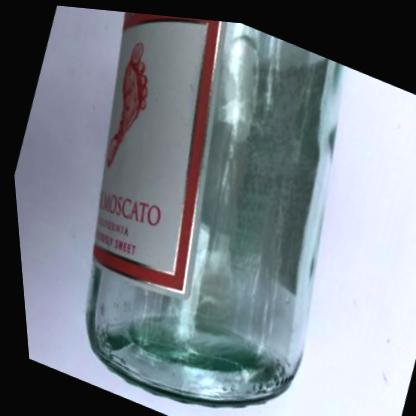Glass: (80, 9, 341, 404)
